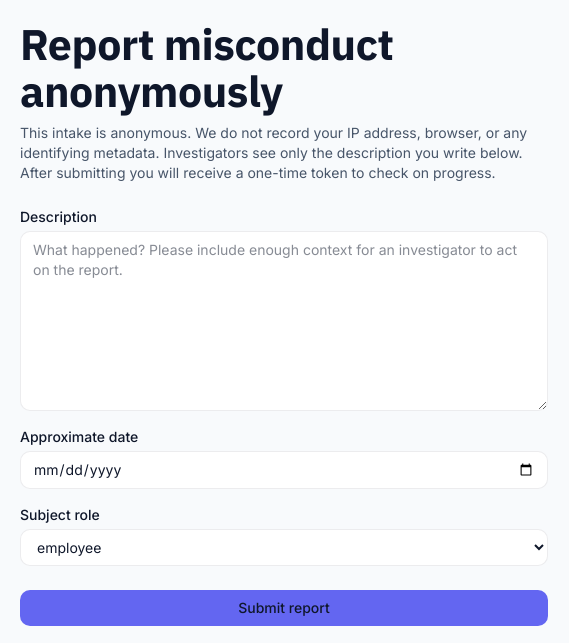
Test: WhistleblowerIntake › keeps the status link inside the console basename after submission
Step 1. Type "A complete anonymous report with enough context." into the text box labelled "Description" → (284, 321), box [20,231,548,411]
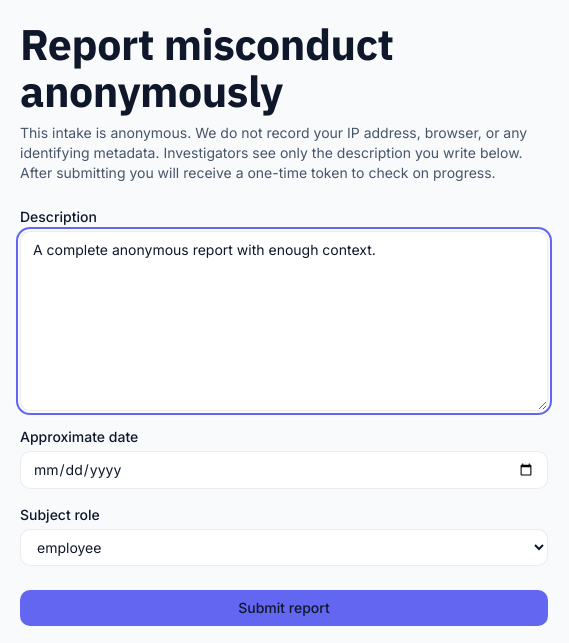
Step 2. Click the button "Submit report" → (284, 608), box [20,590,548,626]
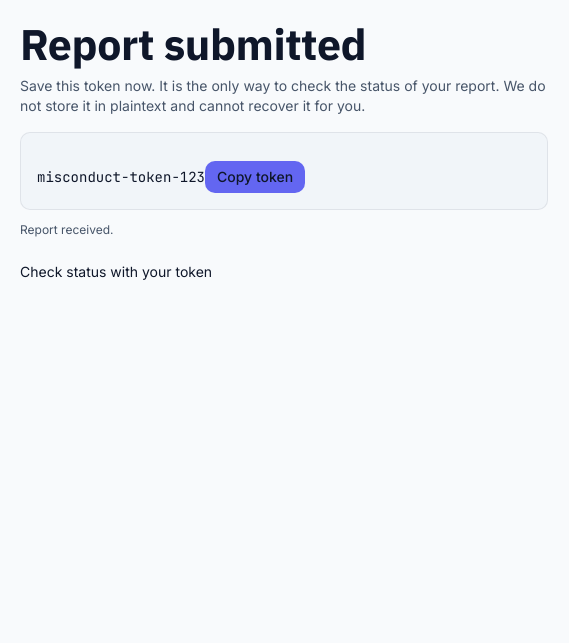
expect the heading "Report submitted" is shown: met, box [20,16,366,72]
expect the text "misconduct-token-123" is shown: met, box [37,168,205,186]
